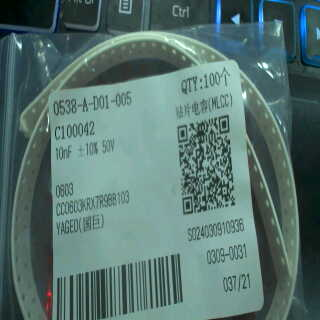10nF: (53, 142, 76, 163)
